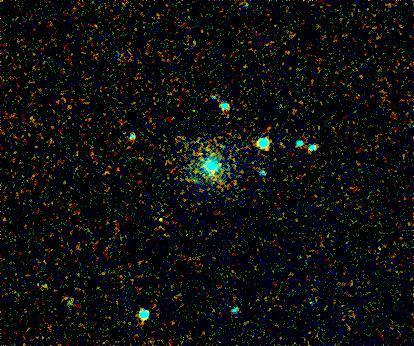star: (147, 204, 177, 234)
